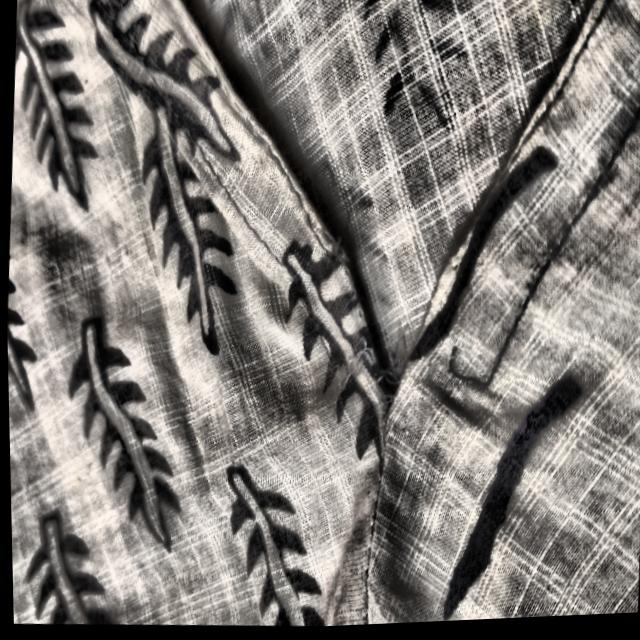Stitch: (275, 164, 422, 421), (418, 310, 543, 436)
